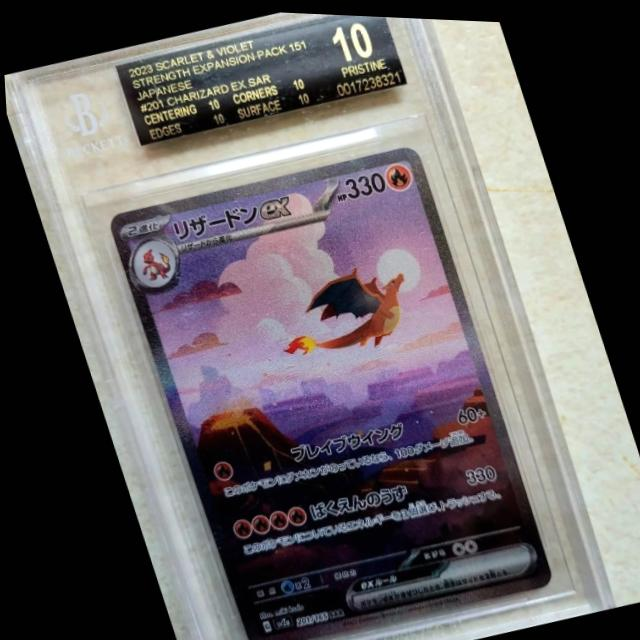bgs_label: (113, 11, 408, 145)
bgs_slab: (3, 10, 610, 640)
card: (103, 139, 549, 640)
